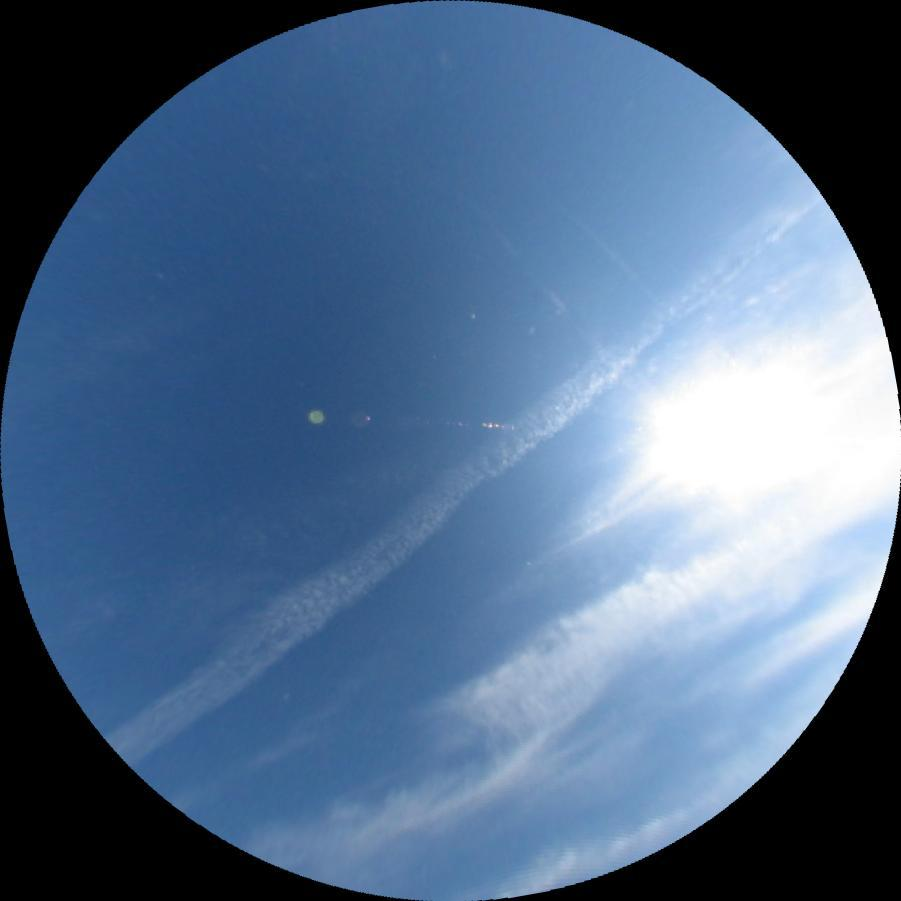contrail veryold: (103, 167, 835, 777), (470, 197, 671, 417)
sun: (651, 369, 828, 493)
unknow: (560, 205, 663, 304)
